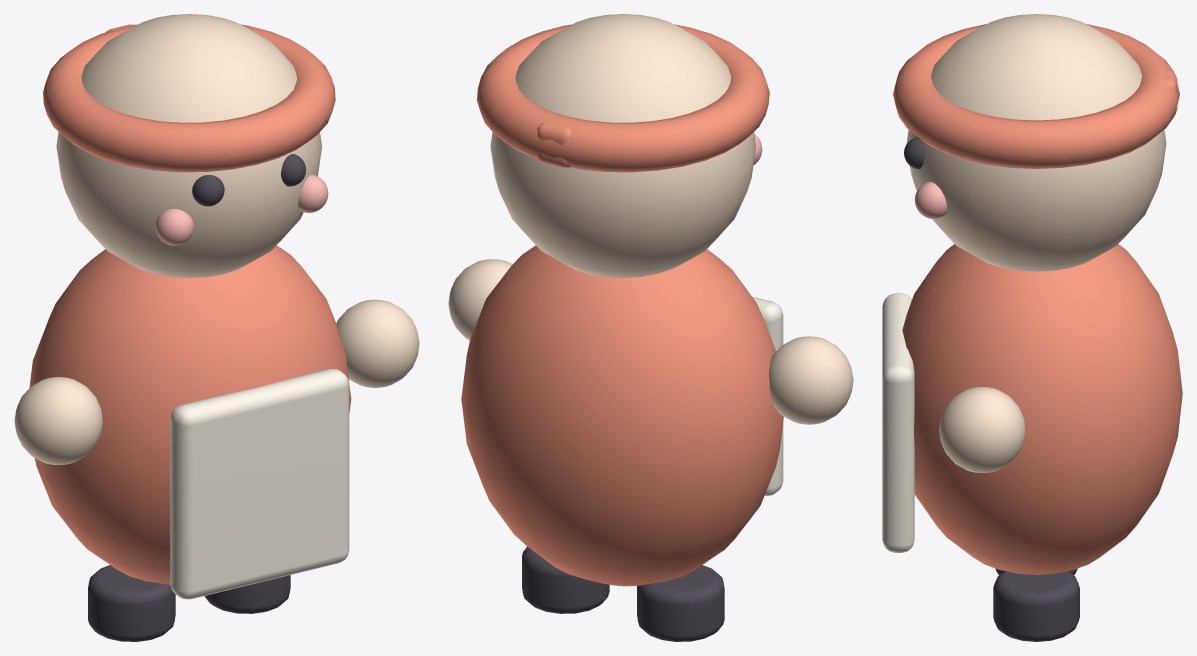
File: chef.glb
3 renders of one model, left to right at view 1: azimuth 30°, elevation 25°; view 2: azimuth 150°, elevation 25°; view 3: azimuth 270°, elevation 25°, orthographic. The views are drawn at different scales.
Visible parts, largest first — view 1: body, head, apron, band, handL, handR, footL, footR, cheekL, cheekR, eye-0.085, eye0.085; view 2: body, head, band, handL, footL, footR, handR, apron, knot; view 3: body, head, band, apron, handR, footR, cheekR, eye0.085.
Part boxes in pixels (x1,y1,x2,y2): body: (29,245,351,584); head: (56,14,322,277); apron: (170,368,349,599); band: (43,24,335,172); handL: (14,377,102,465); handR: (336,299,419,387); footL: (88,565,175,641); footR: (204,575,290,613); cheekL: (155,208,193,245); cheekR: (298,174,328,212); eye-0.085: (192,175,224,206); eye0.085: (281,154,305,186); body: (461,245,783,586); head: (490,14,756,277); band: (477,24,769,172); handL: (769,336,853,424); footL: (637,565,724,641); footR: (522,546,609,613); handR: (448,259,512,340); apron: (752,296,783,495); knot: (537,122,571,167); body: (902,244,1182,574); head: (906,14,1166,271); band: (893,24,1179,168); apron: (882,293,914,552); handR: (939,387,1025,472); footR: (993,571,1079,641); cheekR: (914,181,946,218); eye0.085: (904,137,924,169).
Size of the model in its own units: 0.82 by 1.17 by 0.555.
